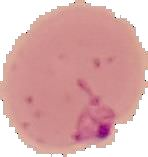parasitized: (67, 74, 118, 146)
